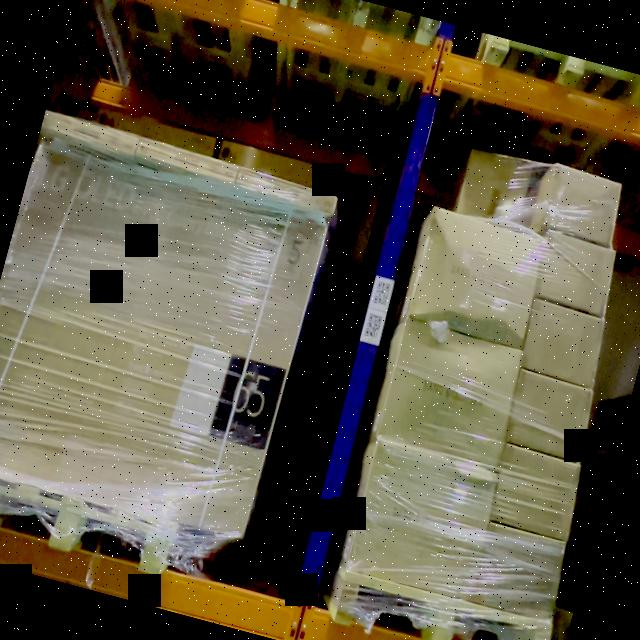box: (347, 442, 498, 602), (378, 321, 522, 466), (409, 210, 544, 344), (473, 524, 564, 620), (491, 447, 578, 538), (74, 100, 216, 154), (506, 374, 592, 461), (520, 302, 604, 384), (541, 165, 623, 242), (456, 149, 534, 228), (535, 235, 615, 312), (218, 141, 338, 191)
